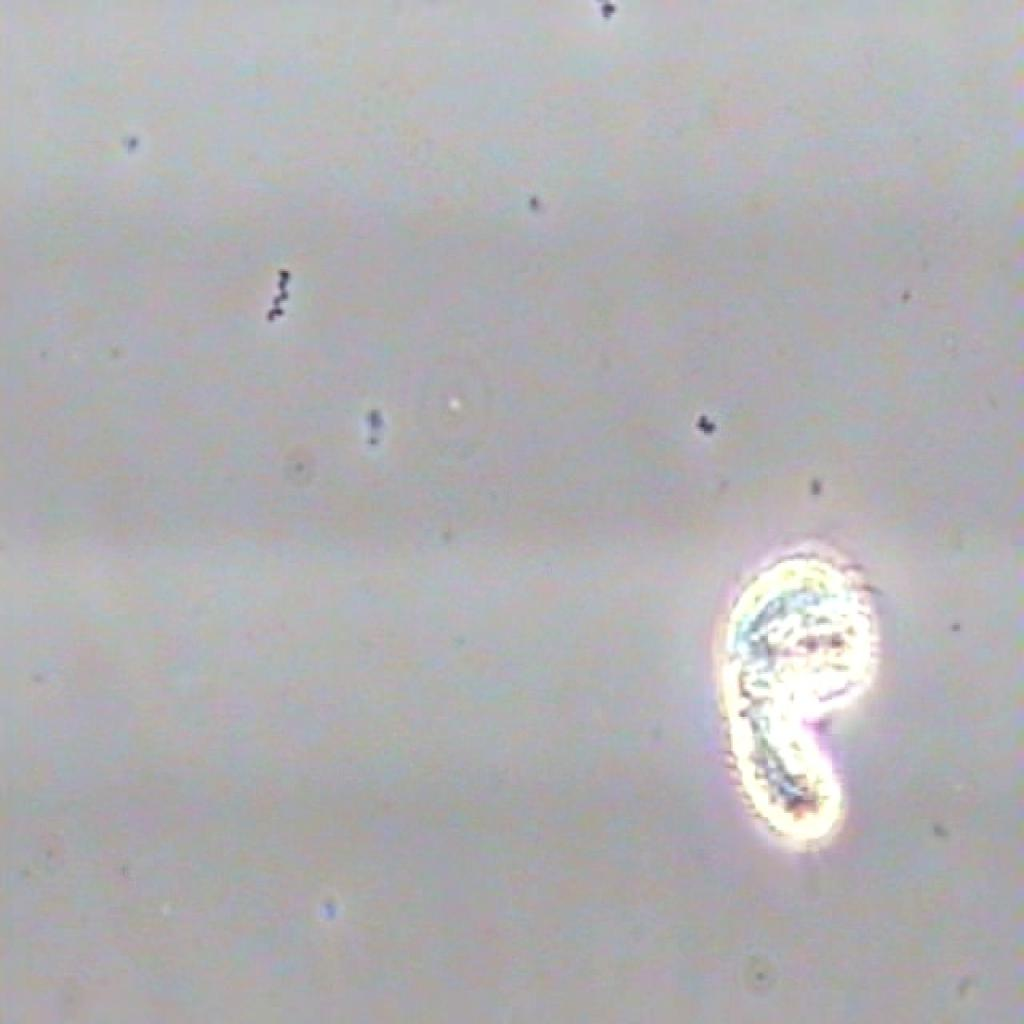Chaetonotus: (692, 513, 898, 872)
